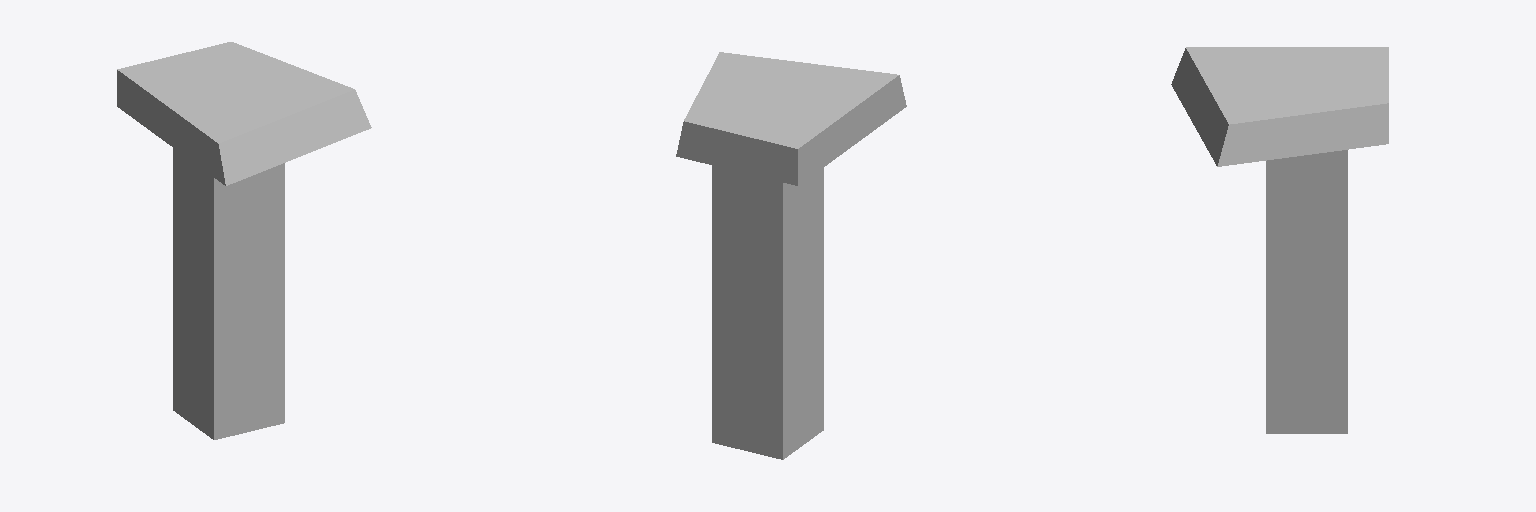
The model's file is rod_debris.obj.
3 renders of one model, left to right at view 1: azimuth 30°, elevation 25°; view 2: azimuth 150°, elevation 25°; view 3: azimuth 270°, elevation 25°, orthographic.
Parts seen in each view (by area): view 1: Lid; view 2: Lid; view 3: Lid.
Part boxes in pixels (x1,y1,x2,y2): Lid: (117, 42, 371, 439); Lid: (676, 52, 906, 459); Lid: (1171, 47, 1388, 433).
Bounding box in the file's own units: 0.5947 × 1.12 × 0.6634.